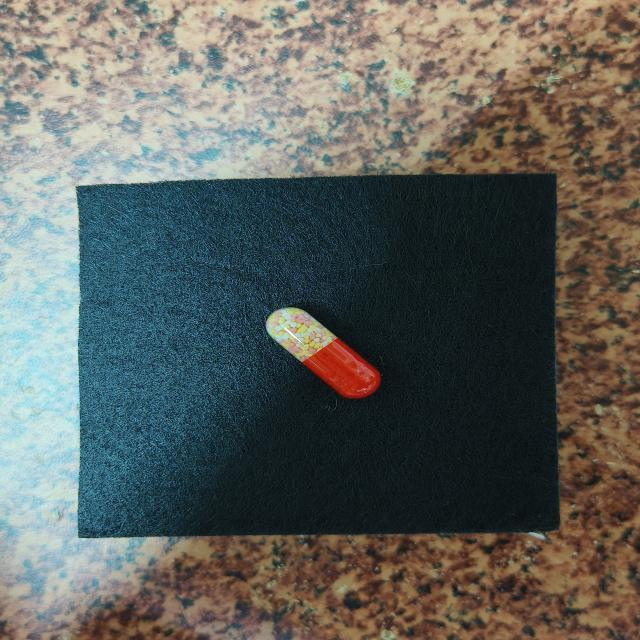Intact Capsule: (266, 307, 381, 398)
